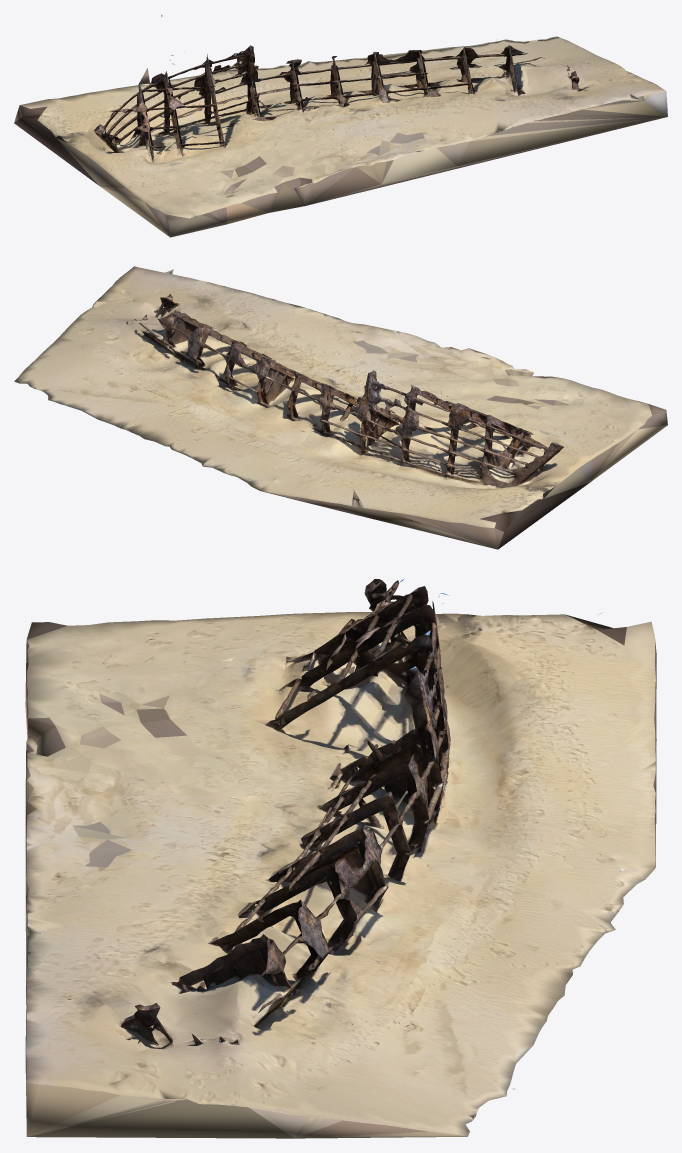
File: shipwreck.glb
The picture shows the model from 3 angles, top to bottom: view 1: azimuth 30°, elevation 25°; view 2: azimuth 150°, elevation 25°; view 3: azimuth 270°, elevation 25°; orthographic projection. The views are drawn at different scales.
Parts seen in each view (by area): view 1: shipwreck; view 2: shipwreck; view 3: shipwreck.
Part boxes in pixels (x1,y1,x2,y2): shipwreck: (14,14,667,237); shipwreck: (14,266,667,549); shipwreck: (25,579,656,1138).
Size of the model in its own units: 26.67 by 4.41 by 14.65.
1 material, 1 textured.
